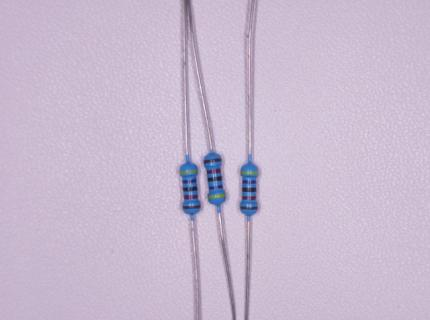Black band: (207, 176, 222, 183), (183, 186, 198, 192), (242, 187, 256, 193)
Brown band: (204, 158, 222, 164), (182, 205, 201, 210), (240, 206, 258, 210)
Red band: (207, 168, 222, 174), (184, 194, 198, 200), (242, 195, 256, 200)
Violet band: (209, 184, 223, 190), (182, 179, 197, 184), (242, 180, 256, 184)
Yellow band: (208, 193, 226, 199), (180, 169, 199, 174), (241, 171, 259, 175)
